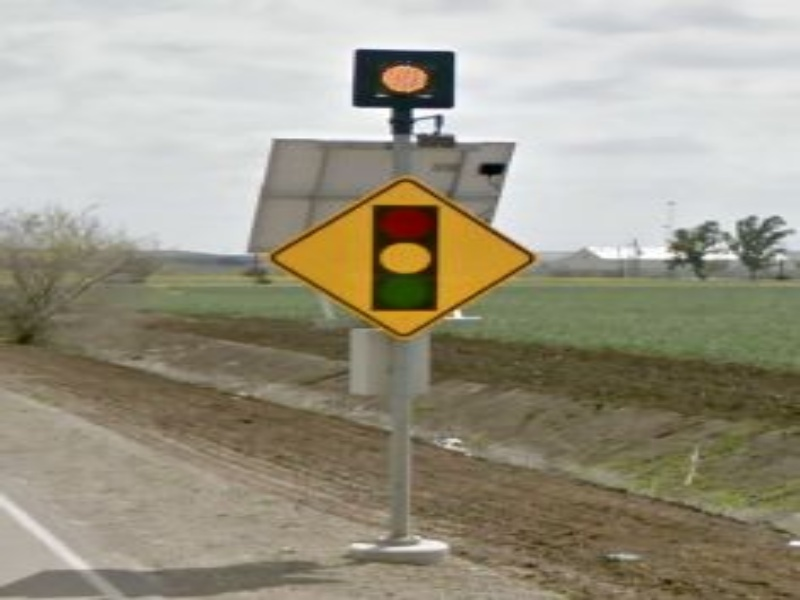traffic signal sign: (263, 173, 542, 343)
